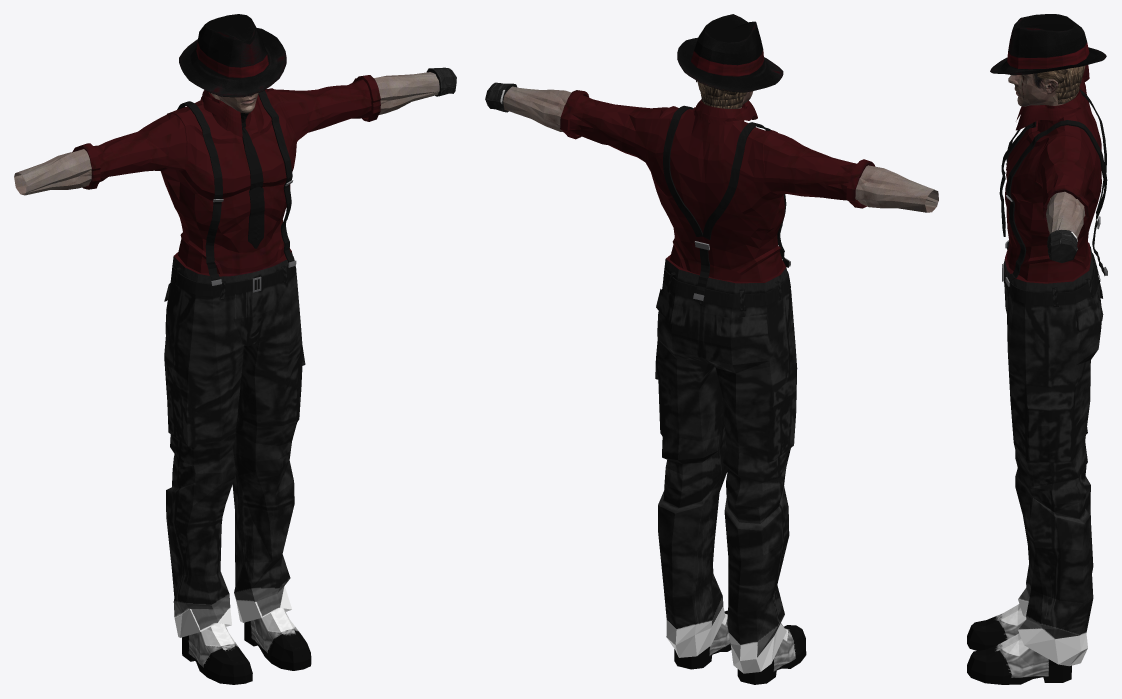
Rendered from leon_tre21.glb.
3 views of the same model, side by side, from view 1: azimuth 30°, elevation 25°; view 2: azimuth 150°, elevation 25°; view 3: azimuth 270°, elevation 25° (orthographic). The views are drawn at different scales.
Parts seen in each view (by area): view 1: pl08_000_MATERIAL_001, pl08_000_MATERIAL_000, pl08_005_MATERIAL_000, pl08_000_MATERIAL_003, pl08_000_MATERIAL_006, pl08_000_MATERIAL_002; view 2: pl08_000_MATERIAL_001, pl08_000_MATERIAL_000, pl08_005_MATERIAL_000, pl08_000_MATERIAL_003, pl08_000_MATERIAL_006, pl08_000_MATERIAL_002; view 3: pl08_000_MATERIAL_001, pl08_000_MATERIAL_000, pl08_000_MATERIAL_003, pl08_005_MATERIAL_000, pl08_000_MATERIAL_002, pl08_004_MATERIAL_000, pl08_005_MATERIAL_004, pl08_002_MATERIAL_000, pl08_005_MATERIAL_006.
Part boxes in pixels (x1,y1,x2,y2): pl08_000_MATERIAL_001: (164,251,305,637); pl08_000_MATERIAL_000: (72,75,380,296); pl08_005_MATERIAL_000: (179,14,286,97); pl08_000_MATERIAL_003: (182,67,456,684); pl08_000_MATERIAL_006: (14,149,91,195); pl08_000_MATERIAL_002: (374,72,439,114); pl08_000_MATERIAL_001: (655,259,797,673); pl08_000_MATERIAL_000: (560,90,875,307); pl08_005_MATERIAL_000: (677,14,783,92); pl08_000_MATERIAL_003: (485,82,806,684); pl08_000_MATERIAL_006: (855,165,938,212); pl08_000_MATERIAL_002: (503,86,571,132); pl08_000_MATERIAL_001: (1004,245,1103,666); pl08_000_MATERIAL_000: (999,65,1107,305); pl08_000_MATERIAL_003: (967,230,1077,684); pl08_005_MATERIAL_000: (990,14,1106,75); pl08_000_MATERIAL_002: (1046,191,1085,238); pl08_004_MATERIAL_000: (1008,73,1048,106); pl08_005_MATERIAL_004: (1052,65,1085,88); pl08_002_MATERIAL_000: (1034,73,1064,105); pl08_005_MATERIAL_006: (1020,69,1067,83).
Size of the model in its own units: 13.39 by 18.62 by 3.72.
Materials: 10 (10 with a texture image).
